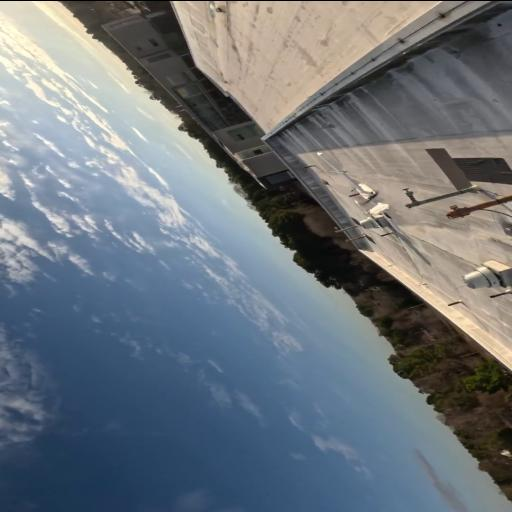uav: (313, 150, 411, 240)
